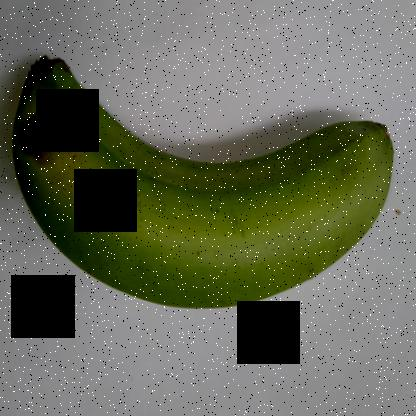freshunripe: (5, 41, 410, 322)
